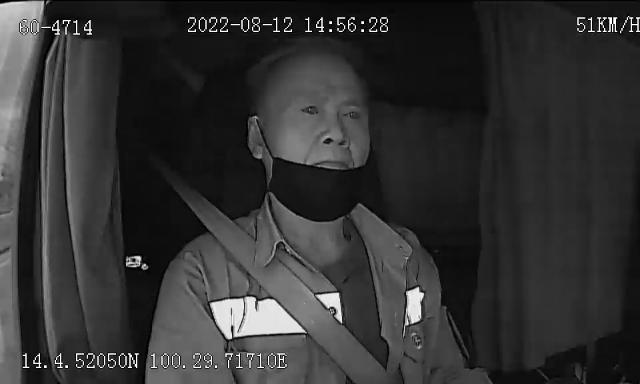SafeDriving: (336, 100, 368, 125), (296, 98, 326, 122)
Seatbelt: (174, 186, 390, 384)
